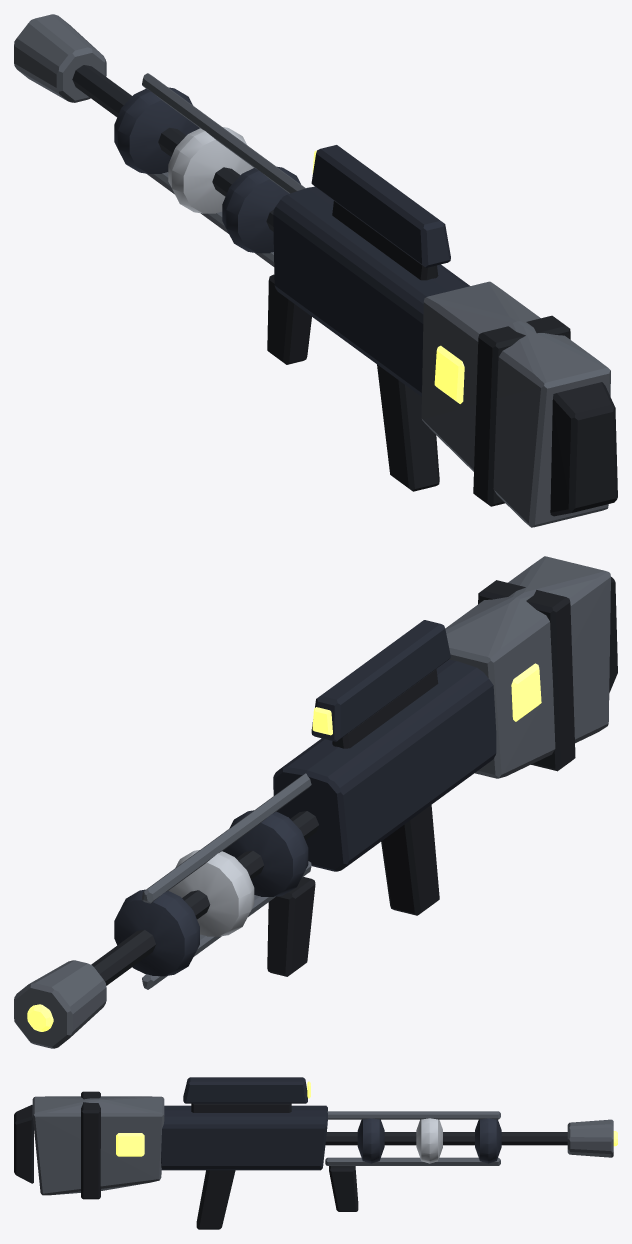
File: w_a_proto_beam_rifle.glb
3 views of the same model, one above another, from view 1: azimuth 30°, elevation 25°; view 2: azimuth 150°, elevation 25°; view 3: azimuth 270°, elevation 25° (orthographic). The views are drawn at different scales.
Visible parts, largest first — view 1: weapon_body, weapon_metal, weapon; view 2: weapon_body, weapon_metal, weapon; view 3: weapon_body, weapon_metal, weapon.
Boxes of the visible parts, x1,y1,x2,y2 form: weapon_body: (14,14,617,527); weapon_metal: (72,65,300,253); weapon: (312,150,464,403); weapon_body: (14,556,617,1048); weapon_metal: (91,810,318,985); weapon: (27,663,541,1031); weapon_body: (14,1077,613,1229); weapon_metal: (325,1118,567,1163); weapon: (116,1081,617,1156).
Bounding box in the file's own units: 0.8225 × 2.43 × 9.03.
